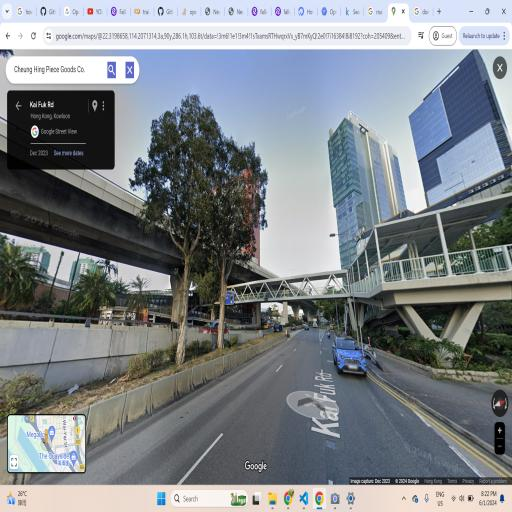Roads: (326, 370, 502, 484), (255, 318, 364, 487), (124, 374, 256, 470)
Trees: (190, 113, 271, 370), (143, 94, 202, 368)
